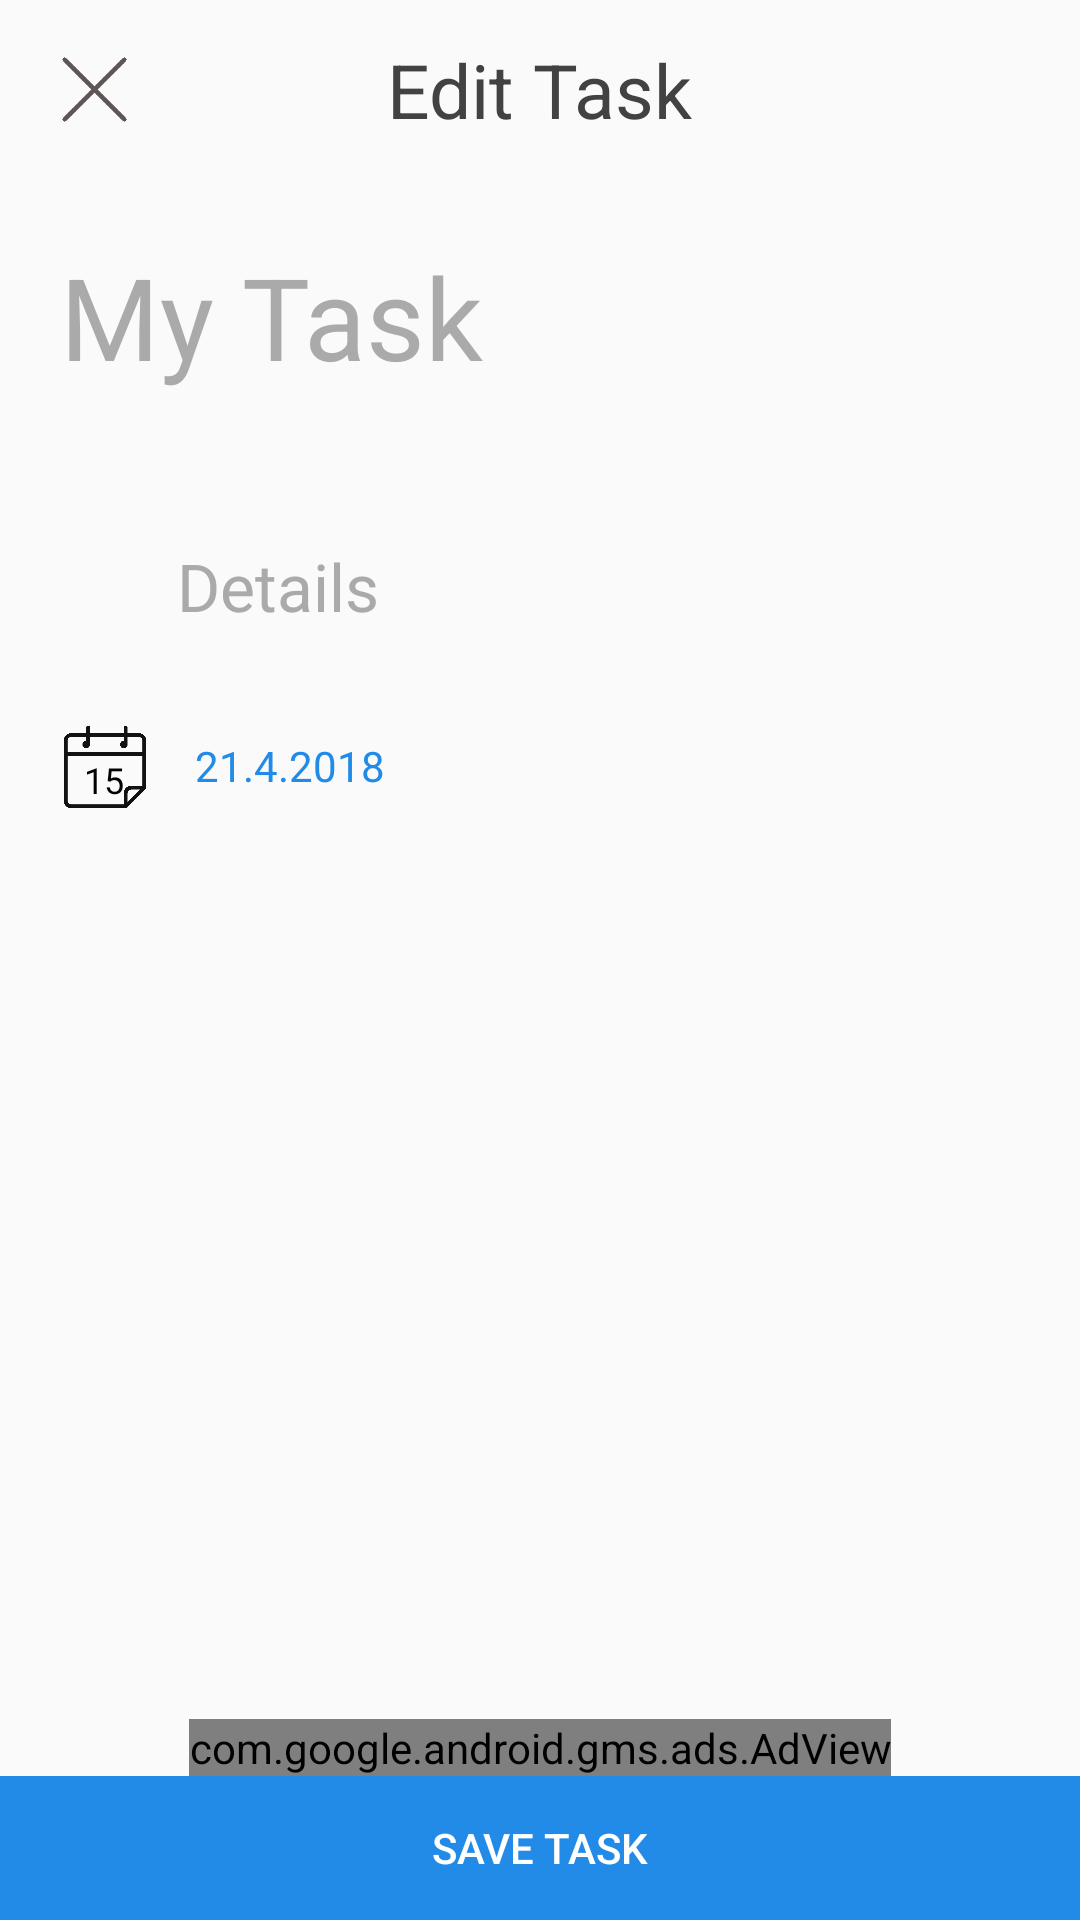

Named icons in this screenshot (1080 × 1920) and their centers, (x,y):
back: (94,89)
calendars: (105,767)
